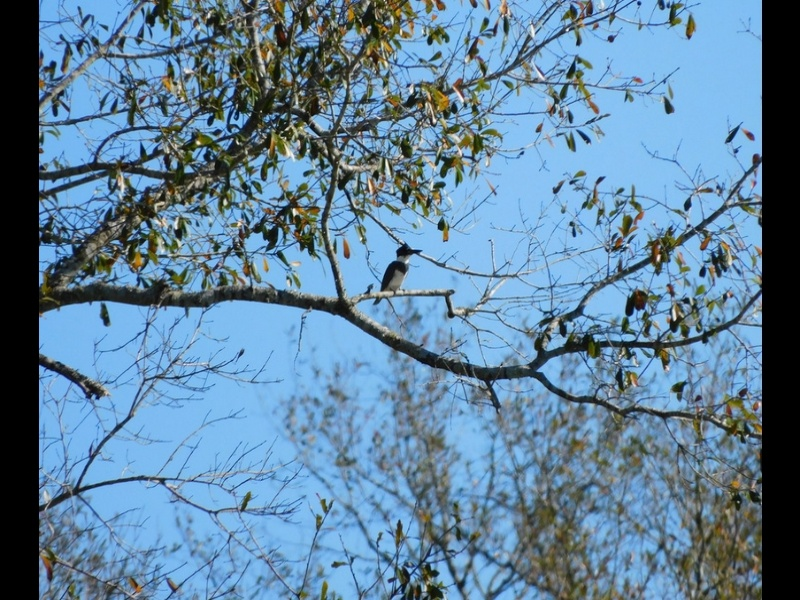kingfisher: (373, 244, 420, 305)
